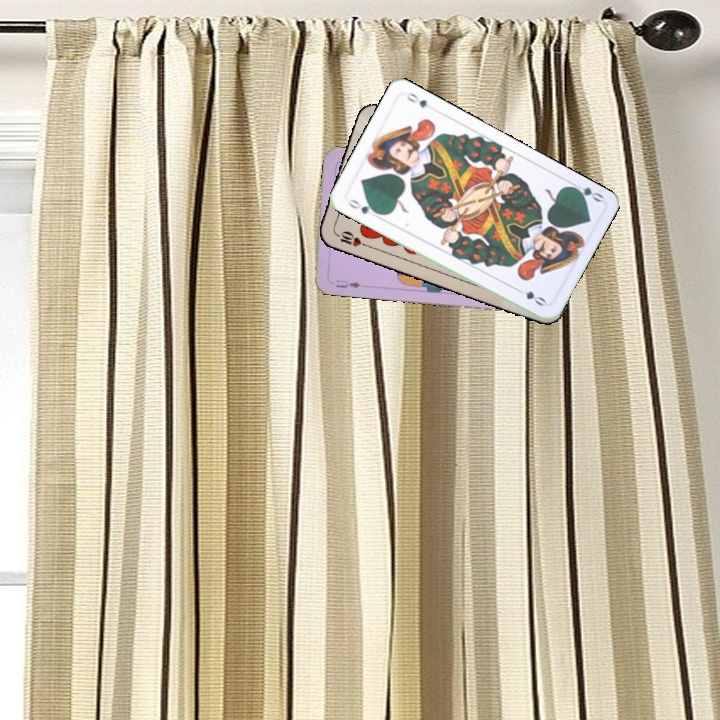EU: (332, 276, 363, 291)
GO: (566, 178, 606, 205), (344, 195, 382, 217)
H10: (331, 227, 370, 249)
